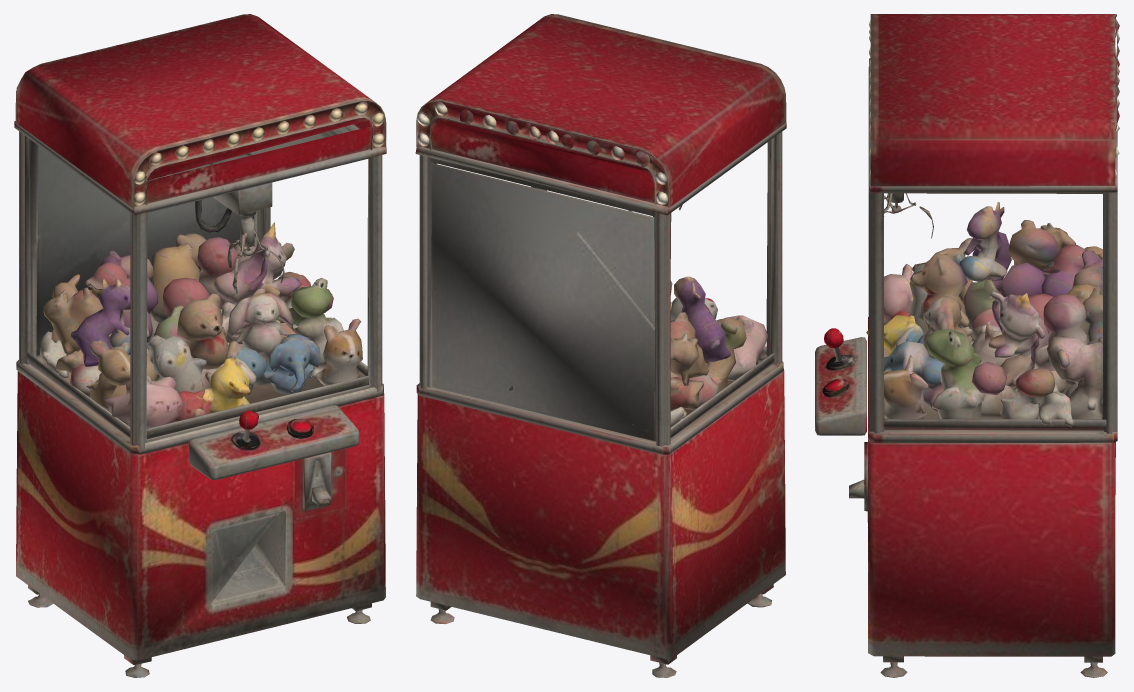
Rendered from skyways-d-ar-claw.glb.
3 renders of one model, left to right at view 1: azimuth 30°, elevation 25°; view 2: azimuth 150°, elevation 25°; view 3: azimuth 270°, elevation 25°, orthographic. The views are drawn at different scales.
Visible parts, largest first — view 1: skyways-d-ar-claw; view 2: skyways-d-ar-claw; view 3: skyways-d-ar-claw.
Part boxes in pixels (box(x1,y1,x2,y2)): skyways-d-ar-claw: box(14, 14, 386, 677); skyways-d-ar-claw: box(415, 14, 786, 677); skyways-d-ar-claw: box(815, 14, 1119, 677).
Size of the model in its own units: 0.9651 by 1.9 by 0.9554.
1 material, 1 textured.
